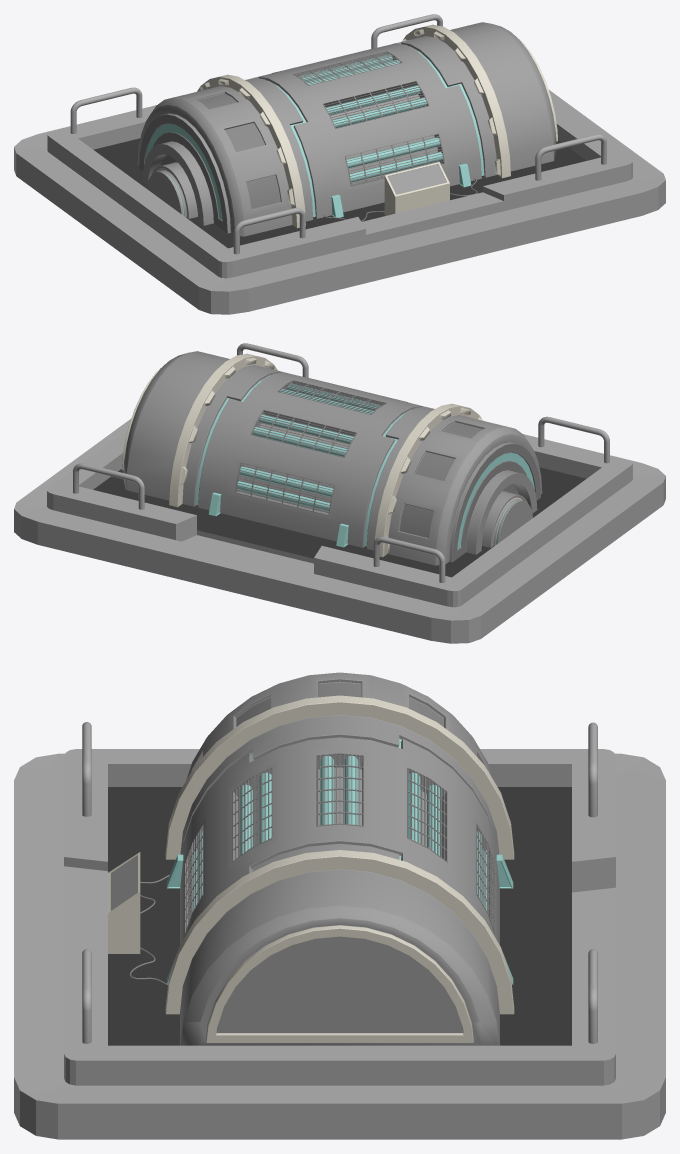
The picture shows the model from 3 angles, top to bottom: view 1: azimuth 30°, elevation 25°; view 2: azimuth 150°, elevation 25°; view 3: azimuth 270°, elevation 25°; orthographic projection. The views are drawn at different scales.
Parts seen in each view (by area): view 1: Cube, Cylinder, Cylinder.002, Cylinder.007, Cube.001; view 2: Cube, Cylinder, Cylinder.002, Cylinder.007; view 3: Cube, Cylinder, Cylinder.002, Cylinder.007, Cube.001.
Part boxes in pixels (box(x1,y1,x2,y2)): Cube: box(14, 14, 665, 314); Cylinder: box(137, 22, 557, 236); Cylinder.002: box(272, 48, 444, 186); Cylinder.007: box(299, 54, 442, 182); Cube.001: box(323, 162, 477, 221); Cube: box(14, 343, 665, 643); Cylinder: box(122, 351, 542, 565); Cylinder.002: box(235, 377, 407, 515); Cylinder.007: box(237, 383, 380, 511); Cube: box(14, 722, 665, 1139); Cylinder: box(165, 672, 514, 1045); Cylinder.002: box(185, 753, 494, 934); Cylinder.007: box(193, 755, 486, 910); Cube.001: box(108, 852, 169, 985).
Bounding box in the file's own units: 992 × 257 × 781.
